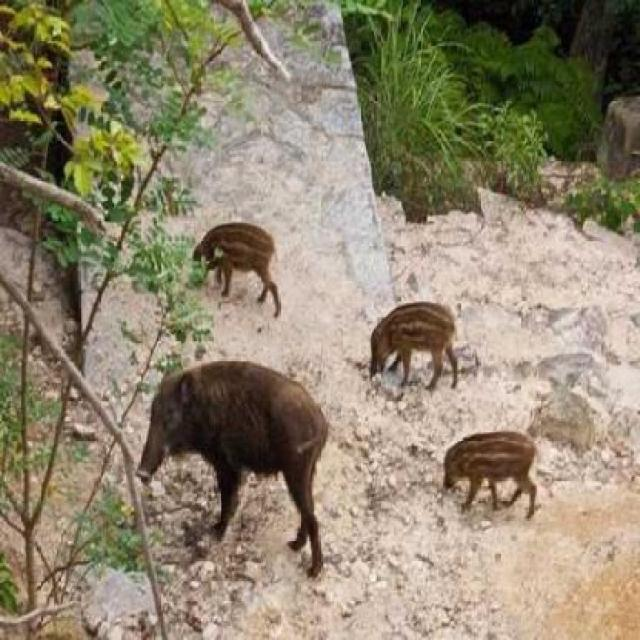Boar: (111, 339, 352, 583), (193, 197, 322, 301), (355, 262, 454, 386), (452, 405, 551, 509)
